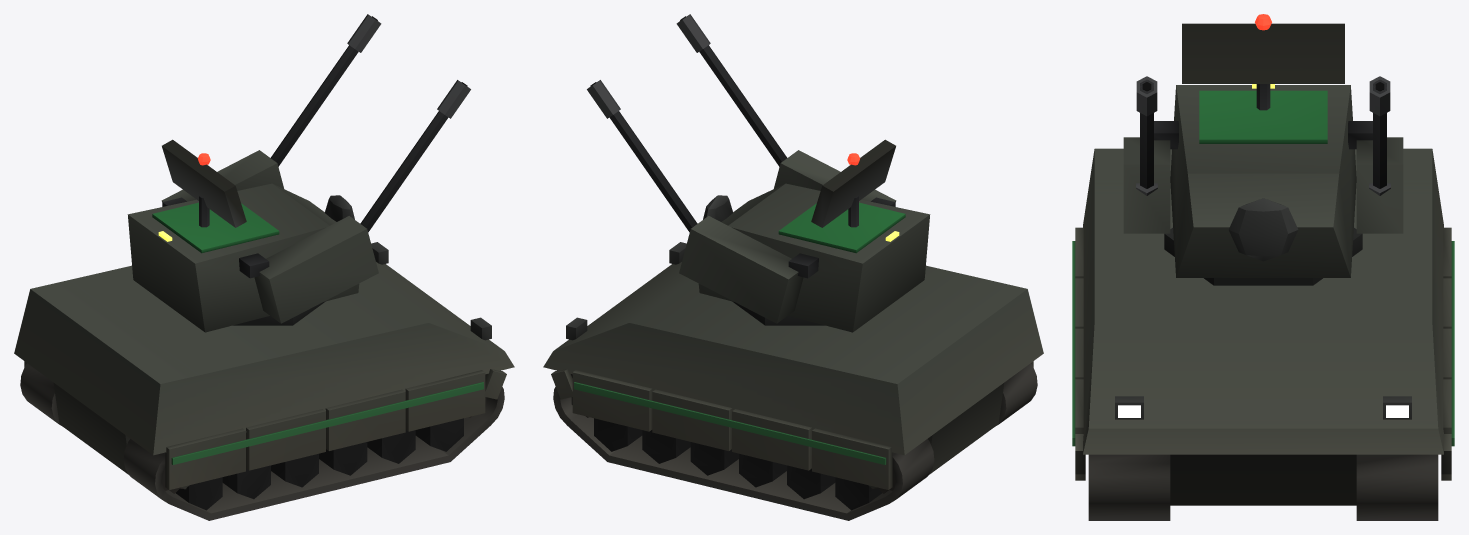
3 views of the same model, side by side, from view 1: azimuth 30°, elevation 25°; view 2: azimuth 150°, elevation 25°; view 3: azimuth 270°, elevation 25° (orthographic). The views are drawn at different scales.
Parts seen in each view (by area): view 1: Aa_LOD1_Walls, Aa_LOD1_turret, Aa_LOD1_Foundation, Aa_LOD1_rotor, Aa_LOD1_Details; view 2: Aa_LOD1_Walls, Aa_LOD1_turret, Aa_LOD1_Foundation, Aa_LOD1_rotor, Aa_LOD1_Details; view 3: Aa_LOD1_Walls, Aa_LOD1_turret, Aa_LOD1_Foundation, Aa_LOD1_rotor, Aa_LOD1_Details.
Boxes of the visible parts, x1,y1,x2,y2 form: Aa_LOD1_Walls: (14, 262, 514, 489); Aa_LOD1_turret: (127, 14, 470, 332); Aa_LOD1_Foundation: (20, 363, 504, 520); Aa_LOD1_rotor: (162, 139, 246, 227); Aa_LOD1_Details: (171, 242, 492, 464); Aa_LOD1_Walls: (543, 262, 1043, 489); Aa_LOD1_turret: (587, 14, 930, 332); Aa_LOD1_Foundation: (553, 363, 1037, 520); Aa_LOD1_rotor: (811, 139, 895, 227); Aa_LOD1_Details: (565, 242, 886, 464); Aa_LOD1_Walls: (1075, 148, 1451, 505); Aa_LOD1_turret: (1123, 76, 1403, 285); Aa_LOD1_Foundation: (1088, 454, 1438, 520); Aa_LOD1_rotor: (1182, 14, 1344, 110); Aa_LOD1_Details: (1072, 241, 1454, 446).
Size of the model in its own units: 0.93 by 0.879 by 0.656.
